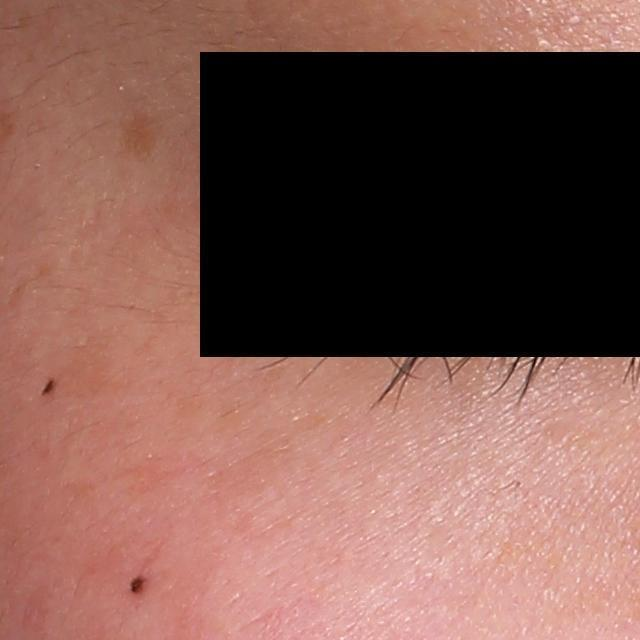melasma: (200, 426, 296, 520), (52, 320, 131, 409), (160, 393, 255, 447), (469, 531, 557, 572), (115, 117, 166, 166)
nevus: (127, 574, 148, 597), (38, 380, 57, 398)
